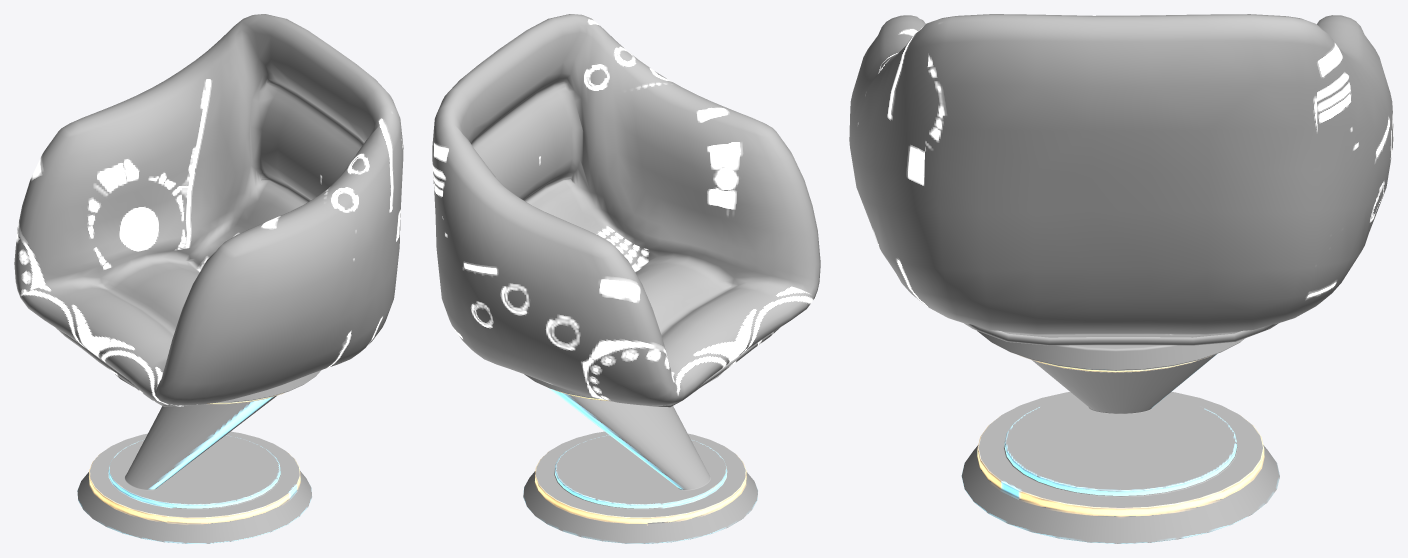
The model's file is SM_ChairConference2.fbx.
3 renders of one model, left to right at view 1: azimuth 30°, elevation 25°; view 2: azimuth 150°, elevation 25°; view 3: azimuth 270°, elevation 25°, orthographic. The views are drawn at different scales.
Visible parts, largest first — view 1: SM_ChairConference2_LOD0; view 2: SM_ChairConference2_LOD0; view 3: SM_ChairConference2_LOD0.
Part boxes in pixels (<box>): SM_ChairConference2_LOD0: <box>14,14,403,543</box>; SM_ChairConference2_LOD0: <box>432,14,820,543</box>; SM_ChairConference2_LOD0: <box>849,14,1393,543</box>.
Bounding box in the file's own units: 57.76 × 84.16 × 75.11.
